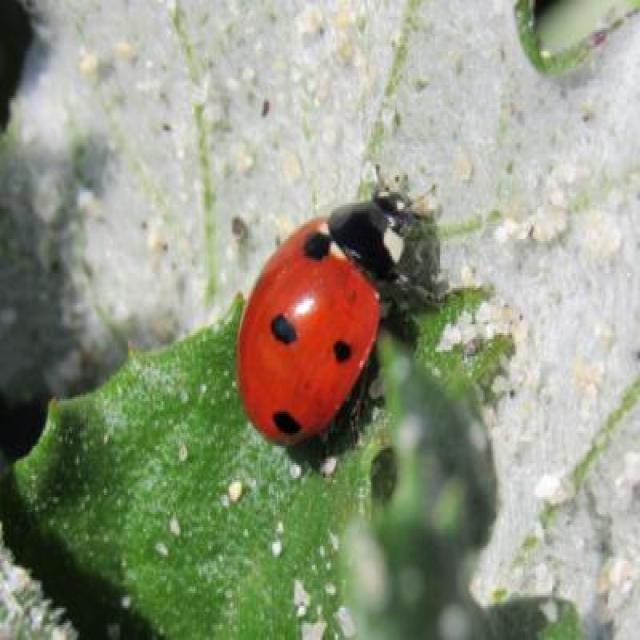antennae: (366, 162, 443, 218)
body: (247, 194, 411, 440)
insect: (236, 163, 446, 448)
legs: (342, 260, 451, 446)
wings: (240, 218, 380, 446)
